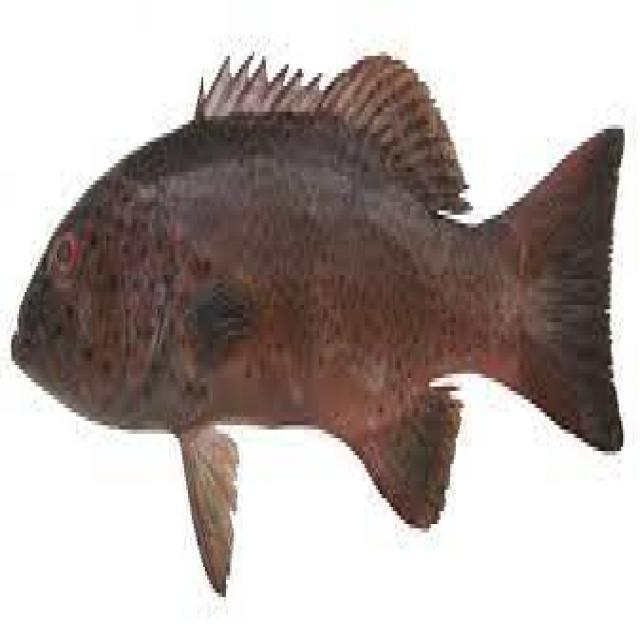Plectropomus-leopardus: (7, 29, 632, 572)
